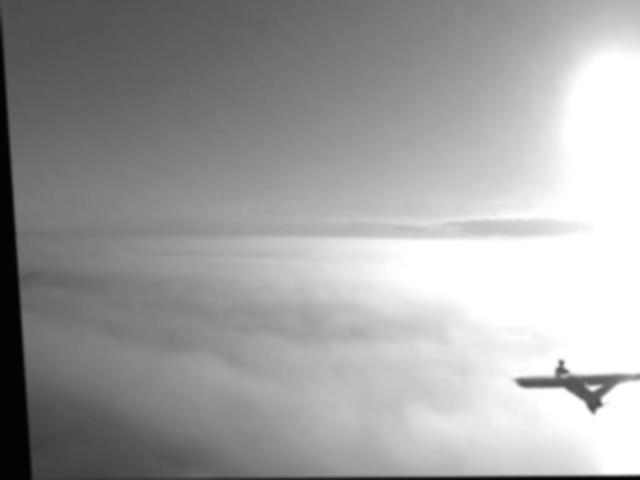hedef: (495, 350, 640, 427)
